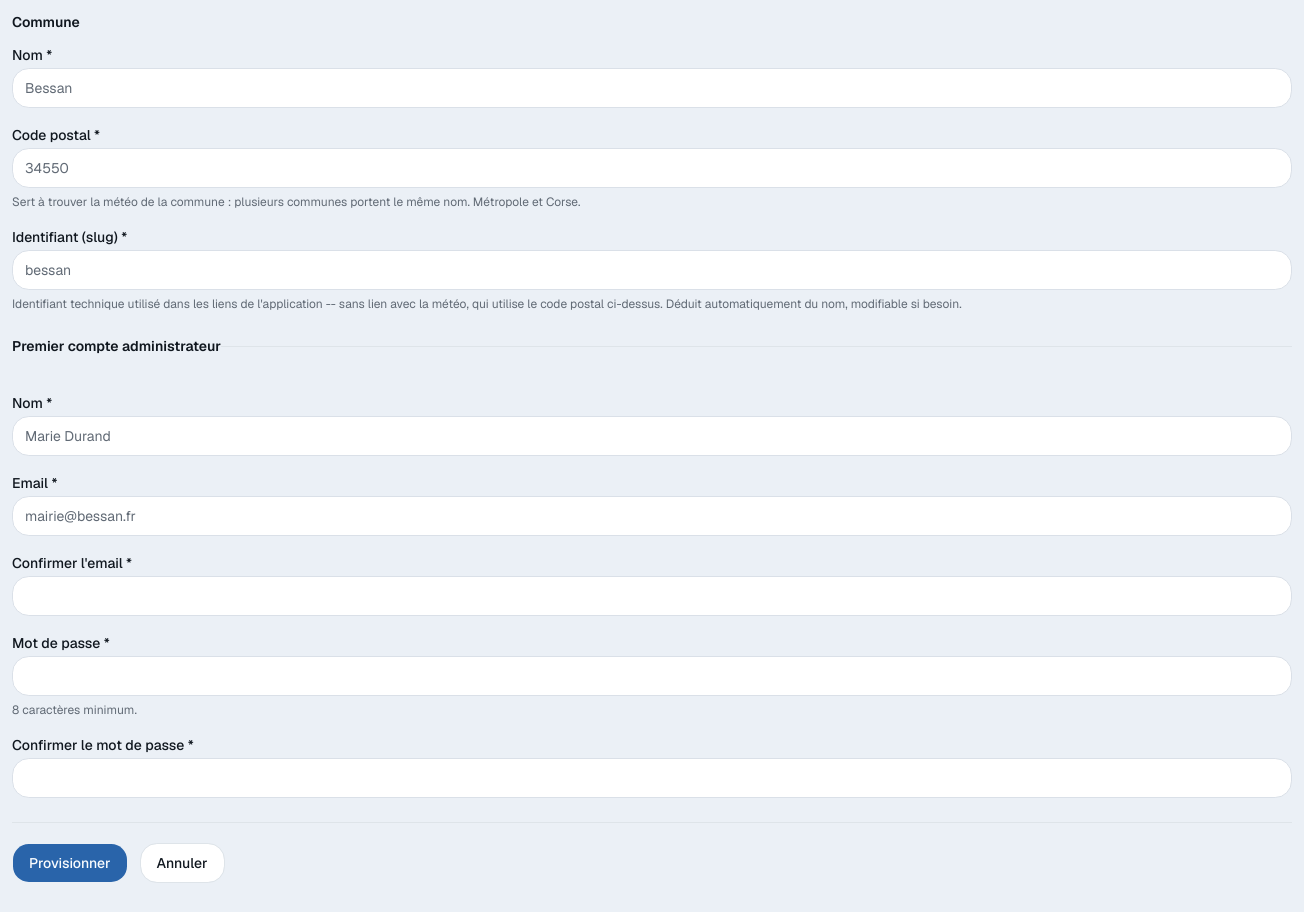
it: CommuneProvisionForm › fills the slug in from the name, so the field needs no thought
Type "Saint-Martin" into the 1st field labelled "Nom *" at [652, 88], box [12, 68, 1292, 108]
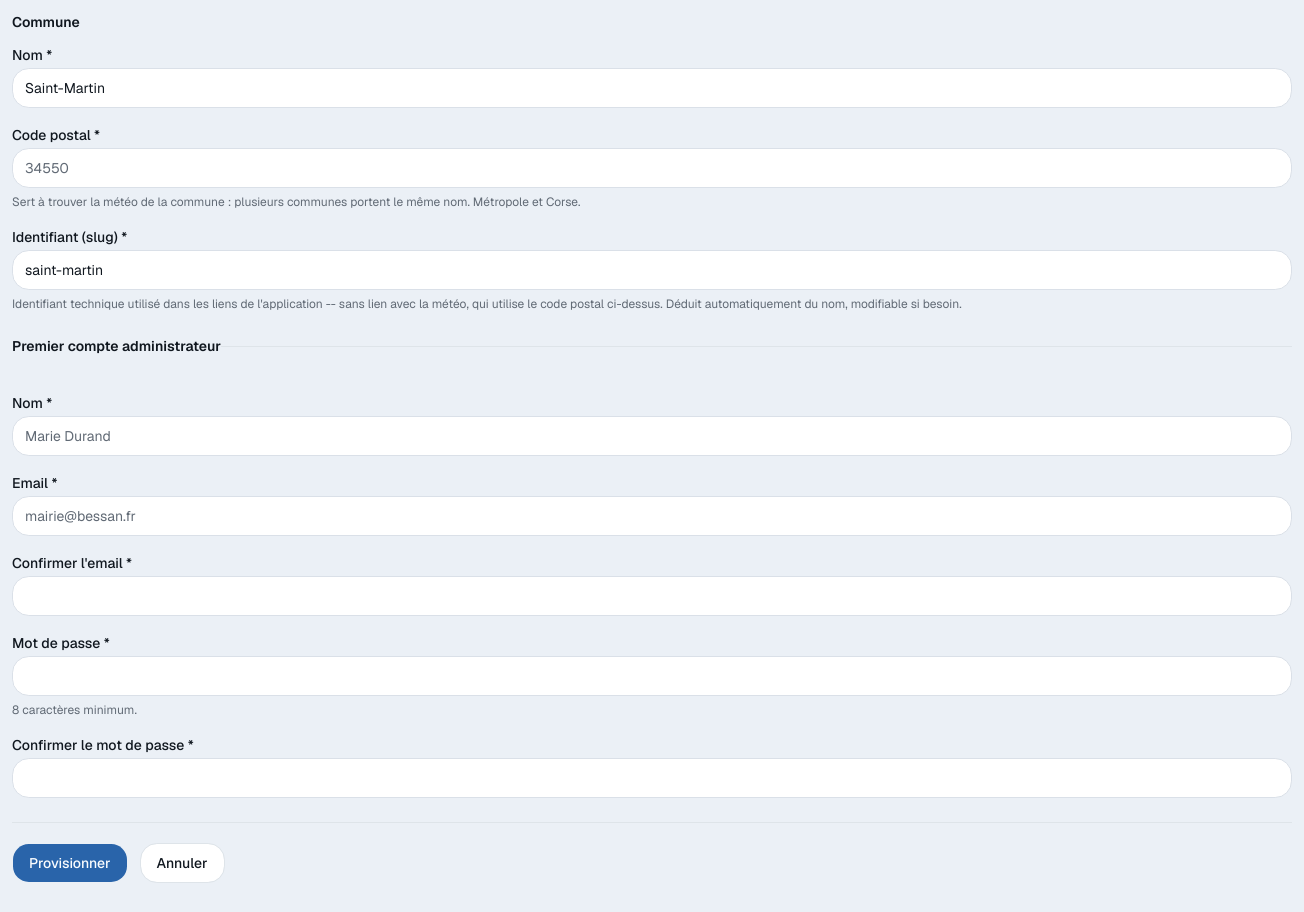
Expected: the field labelled "Identifiant (slug) *" holds "saint-martin", [12, 250, 1292, 290]
